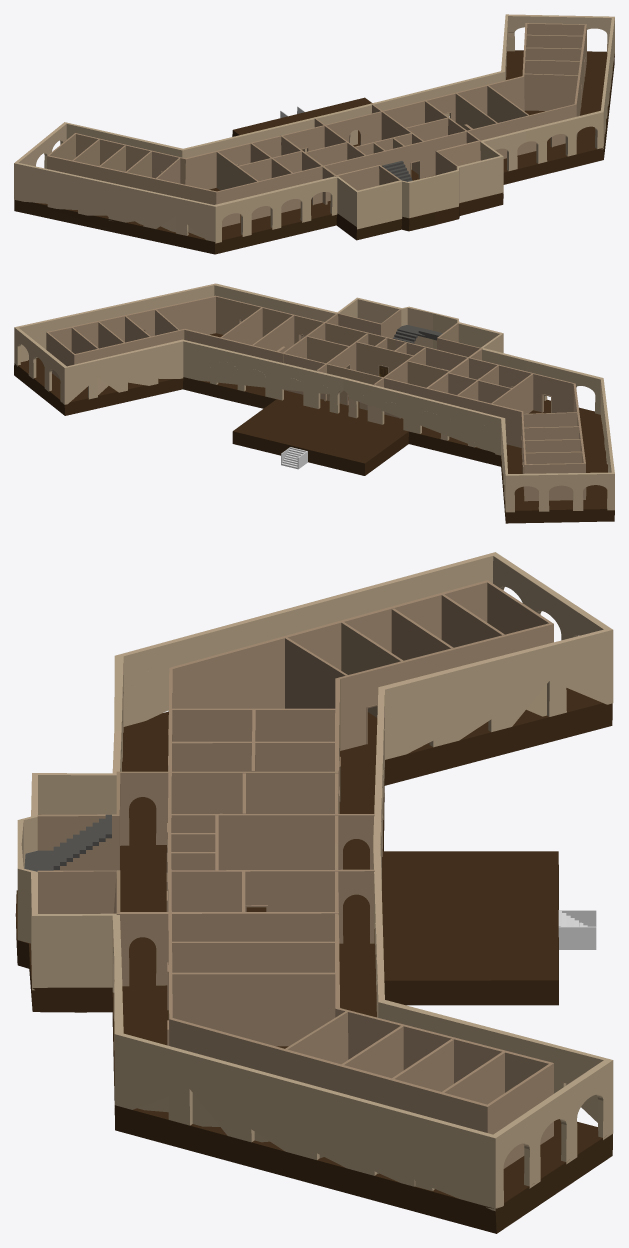
Rendered from HOSPITAL0.2.fbx.
3 views of the same model, one above another, from view 1: azimuth 30°, elevation 25°; view 2: azimuth 150°, elevation 25°; view 3: azimuth 270°, elevation 25° (orthographic). The views are drawn at different scales.
Visible parts, largest first — view 1: pared interior, pared, piso y sotano, escalera; view 2: pared interior, pared, piso y sotano, escalera, escalera exterior; view 3: pared interior, pared, piso y sotano, escalera, escalera exterior.
Boxes of the visible parts, x1=… form: pared interior: x1=47, y1=23, x2=586, y2=227; pared: x1=14, y1=14, x2=614, y2=243; piso y sotano: x1=14, y1=50, x2=614, y2=254; escalera: x1=382, y1=161, x2=412, y2=181; pared interior: x1=46, y1=295, x2=586, y2=501; pared: x1=14, y1=283, x2=614, y2=512; piso y sotano: x1=14, y1=333, x2=614, y2=523; escalera: x1=392, y1=325, x2=442, y2=343; escalera exterior: x1=281, y1=447, x2=307, y2=469; pared interior: x1=37, y1=580, x2=553, y2=1168; pared: x1=17, y1=552, x2=613, y2=1211; piso y sotano: x1=15, y1=688, x2=612, y2=1233; escalera: x1=24, y1=814, x2=111, y2=871; escalera exterior: x1=558, y1=910, x2=596, y2=949.
Size of the model in its own units: 128107 by 10119 by 55164.
